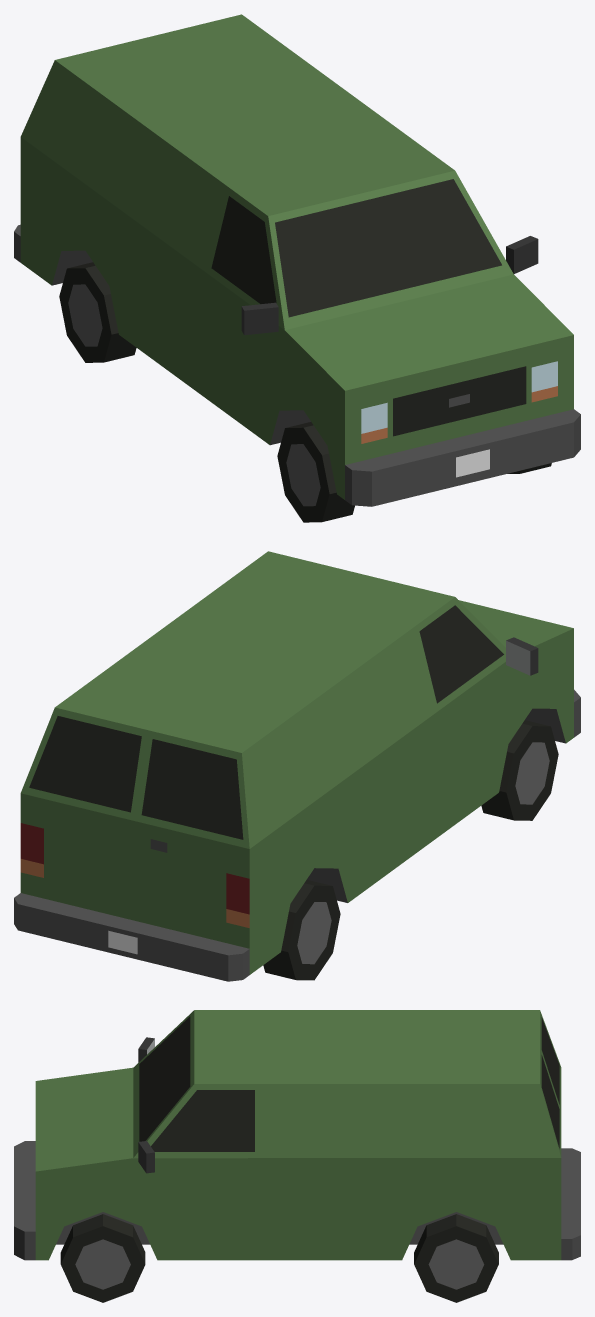
File: Veh_Van_01_Green.obj
3 renders of one model, top to bottom at view 1: azimuth 30°, elevation 25°; view 2: azimuth 150°, elevation 25°; view 3: azimuth 270°, elevation 25°, orthographic. The views are drawn at different scales.
Size of the model in its own units: 1.38 by 1.16 by 2.84.
